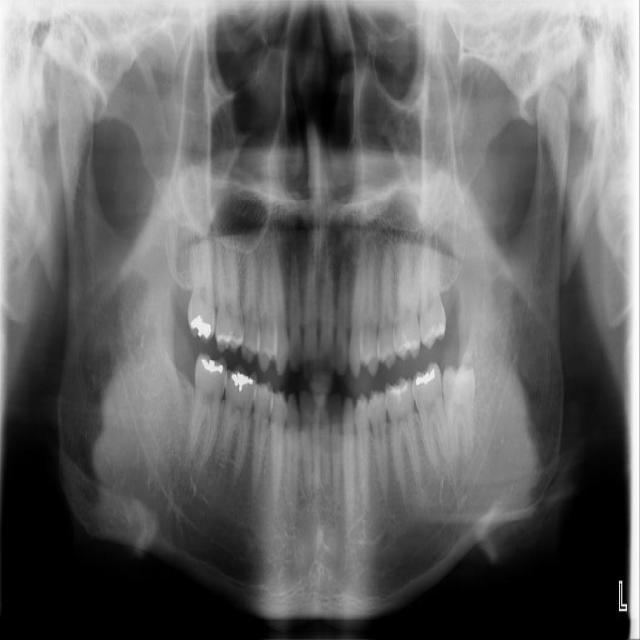52: (192, 350, 230, 397), (223, 365, 258, 407), (410, 362, 442, 406), (188, 297, 215, 343)
73: (547, 580, 551, 588)
BioHorizons Implant: (419, 237, 447, 350)
Biomet 3i Implant: (441, 362, 482, 461)
Blue Sky Bio Implant: (409, 361, 452, 468)
Caries: (185, 240, 216, 344)
Implant: (187, 350, 230, 458)
